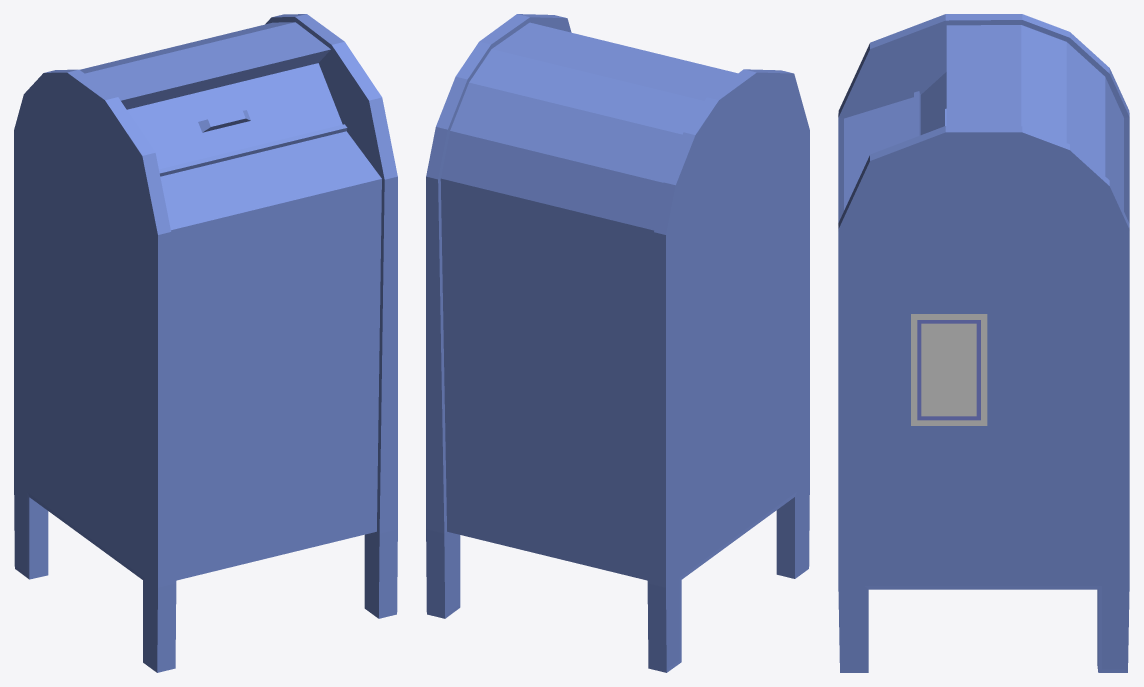
Rendered from Mailbox.glb.
3 views of the same model, side by side, from view 1: azimuth 30°, elevation 25°; view 2: azimuth 150°, elevation 25°; view 3: azimuth 270°, elevation 25° (orthographic).
Visible parts, largest first — view 1: Mailbox; view 2: Mailbox; view 3: Mailbox.
Part boxes in pixels (x1,y1,x2,y2): Mailbox: [14, 14, 397, 672]; Mailbox: [426, 14, 809, 672]; Mailbox: [838, 14, 1129, 672].
Size of the model in its own units: 0.2179 by 0.4626 by 0.2259.
